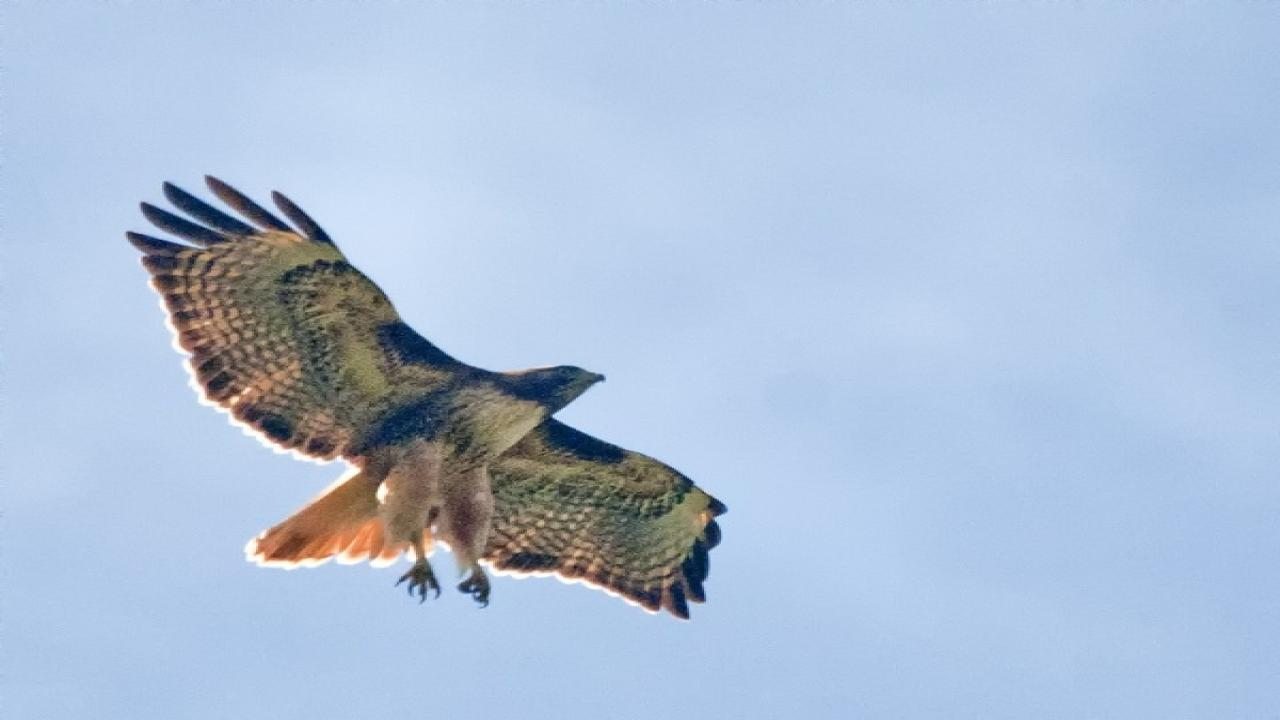Bird: (104, 160, 738, 634)
